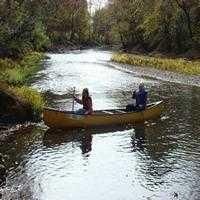kayak: (42, 101, 162, 128)
